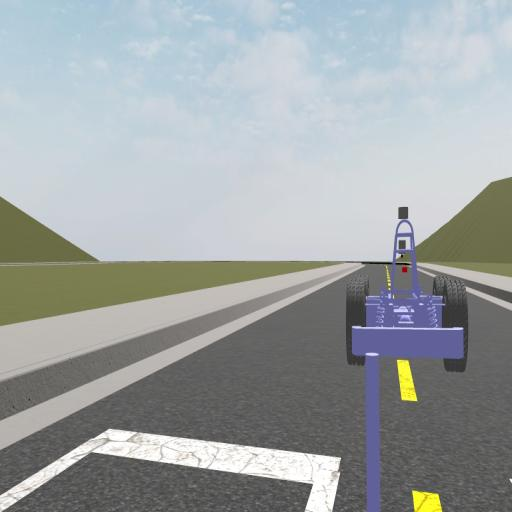ERP-42: (348, 207, 470, 373)
